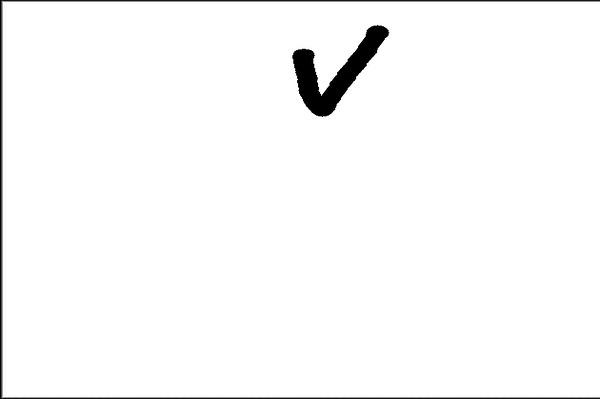V: (277, 15, 394, 124)
